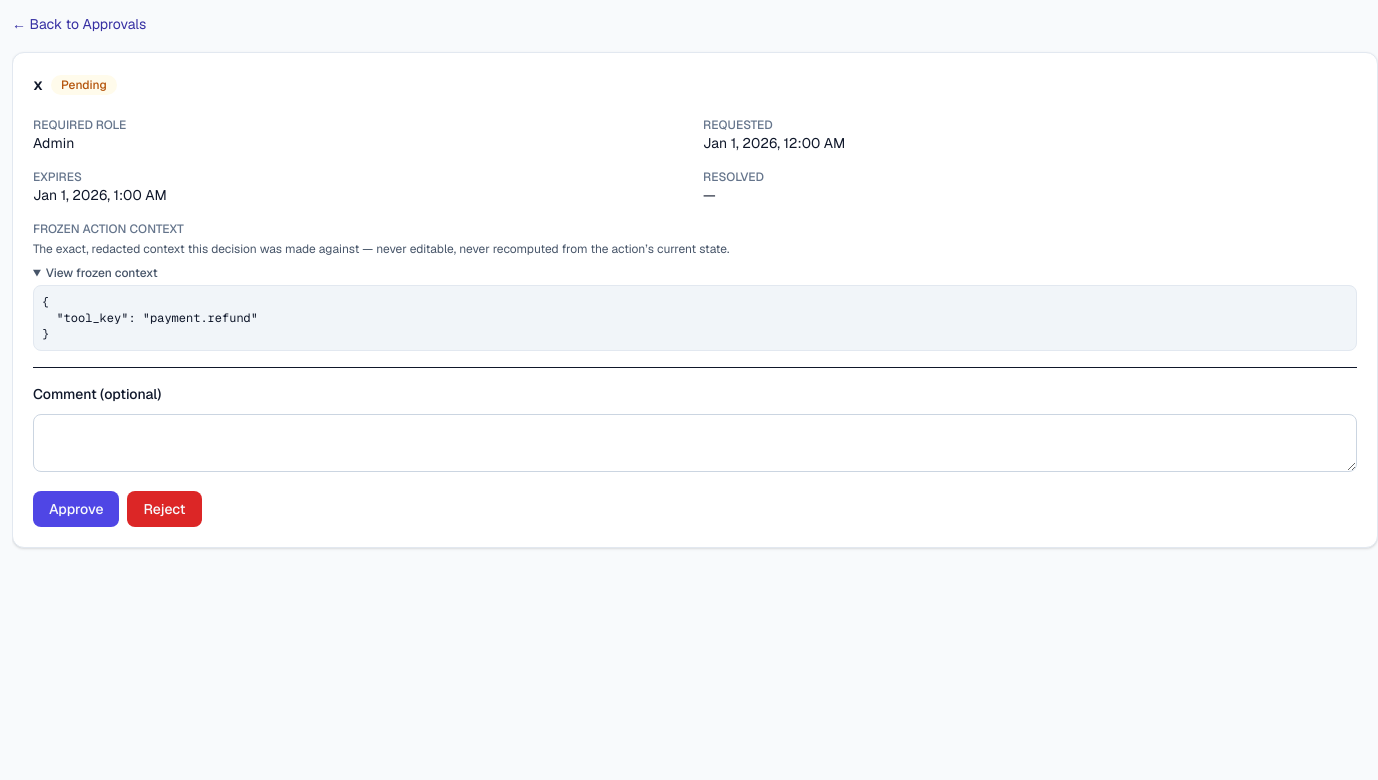
Test: ApprovalDetailPage › records a real rejection and reflects the server's persisted decision
Click the button "Reject". click: click(165, 509)
box: [128,491,202,527]
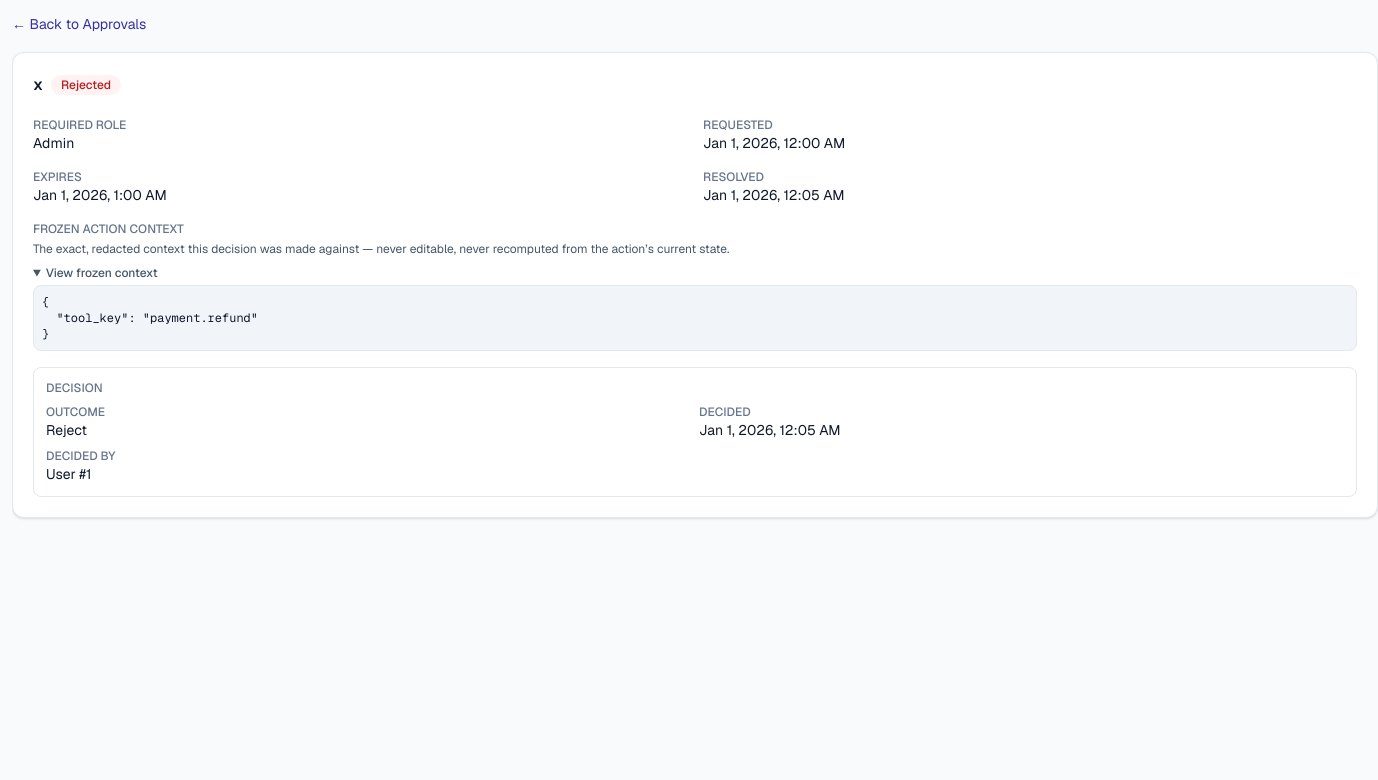
Expected: the text "Rejected" is shown, [51,75,121,95]
Expected: the text "reject" is shown, [46,421,87,439]
